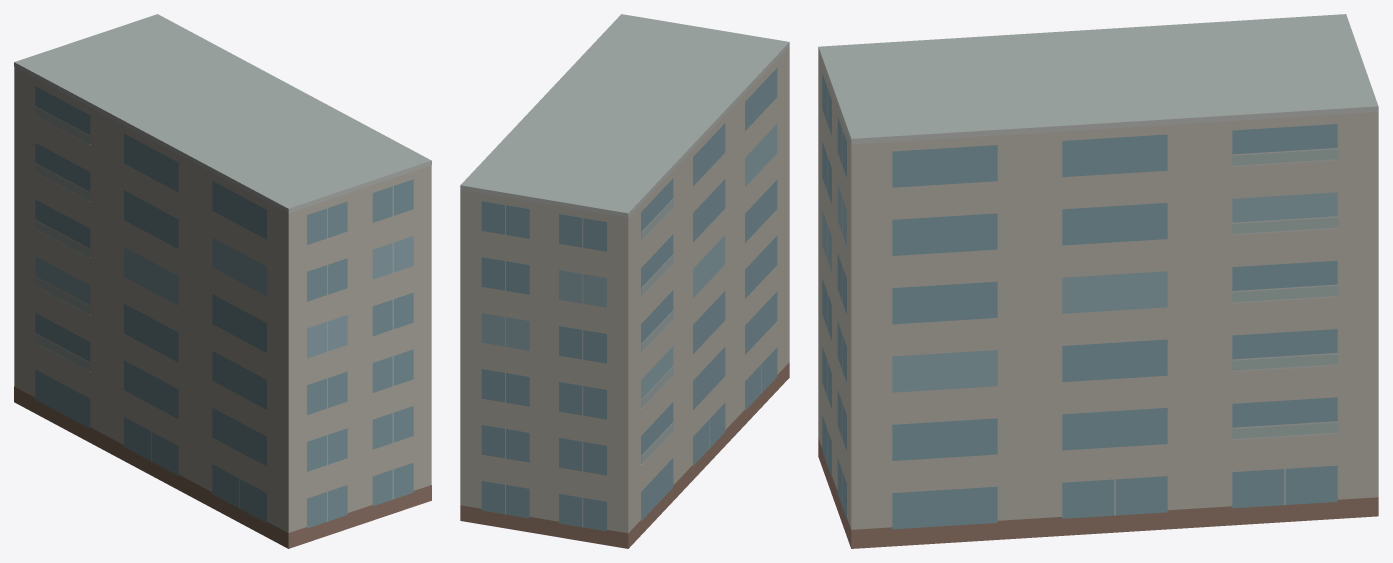
File: survey-upis-32742064.glb
The picture shows the model from 3 angles, left to right: view 1: azimuth 30°, elevation 25°; view 2: azimuth 150°, elevation 25°; view 3: azimuth 270°, elevation 25°; orthographic projection. The views are drawn at different scales.
Parts seen in each view (by area): view 1: survey-upis-32742064.tmp; view 2: survey-upis-32742064.tmp; view 3: survey-upis-32742064.tmp.
Part boxes in pixels (x1,y1,x2,y2): survey-upis-32742064.tmp: (14, 14, 431, 548); survey-upis-32742064.tmp: (460, 14, 789, 548); survey-upis-32742064.tmp: (818, 14, 1378, 548).
Size of the model in its own units: 11.7 by 17.9 by 22.17.
